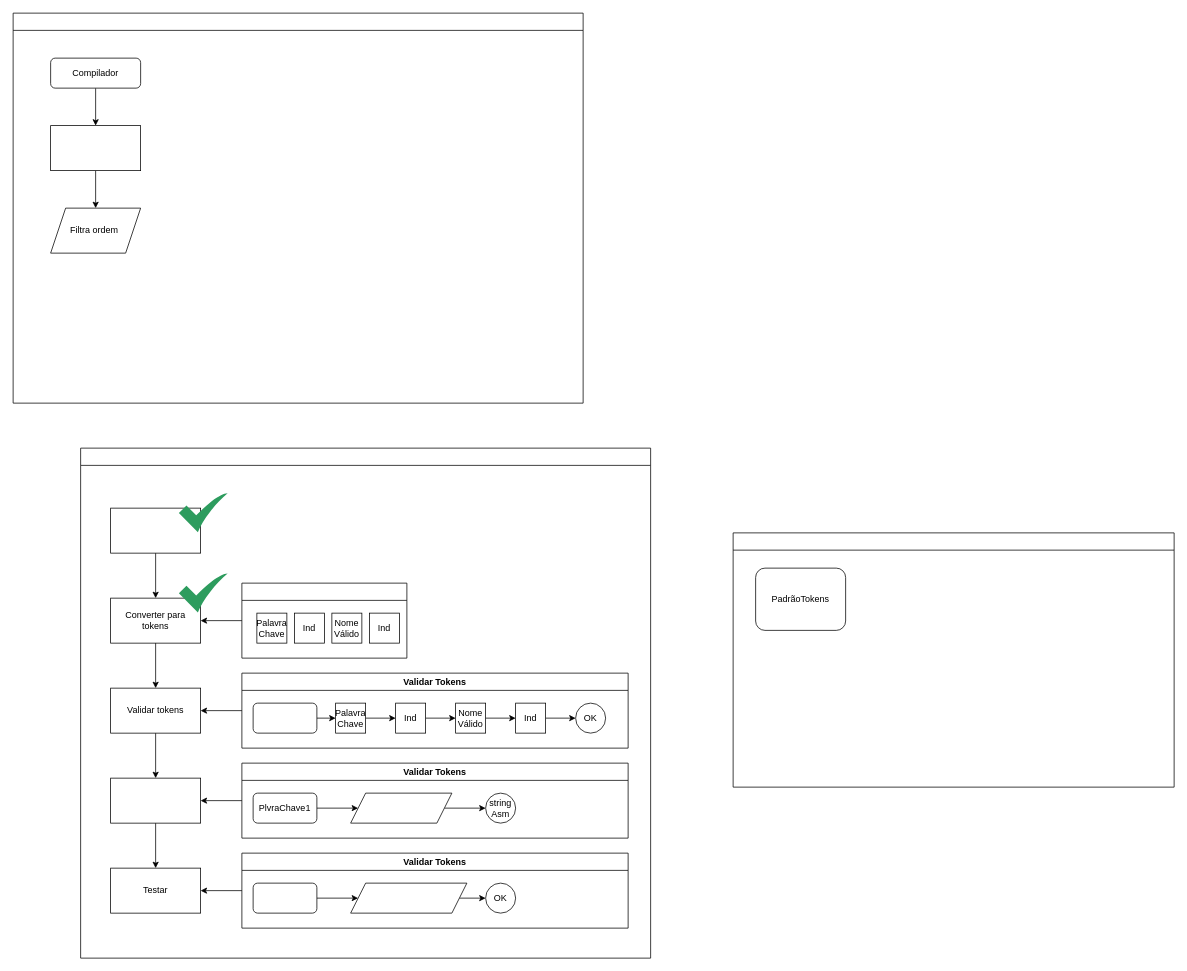
Some shapes in this 1187 by 971 pixel diagram are drawn without their labels. The shapes that lost their labels are listed below. From the top down, each one's box as (x1, y1, x2, y2) in pixels, then its label:
(50, 125, 141, 171): tokens
(12, 12, 583, 403): CompiladorAssembly
(110, 507, 201, 553): Montar estrutura
(241, 582, 407, 658): Mapear Tokens
(732, 532, 1174, 787): ValidadorTokens
(252, 702, 317, 733): Padrão 1
(80, 447, 651, 958): Fases do projeto
(110, 777, 201, 823): Converter Assembly
(350, 792, 452, 823): ConverterAsm()
(252, 882, 317, 913): Código 1
(350, 882, 467, 913): Rodar no interpretador
